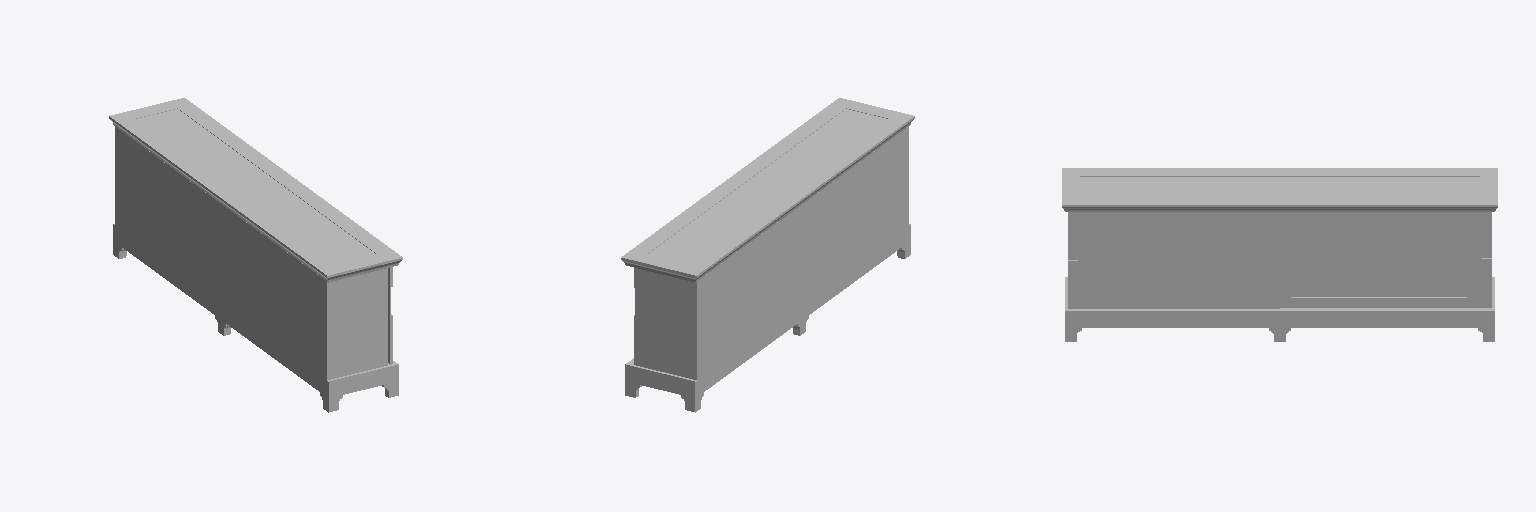
The model's file is Promemoria OOLONG.obj.
The picture shows the model from 3 angles: view 1: azimuth 30°, elevation 25°; view 2: azimuth 150°, elevation 25°; view 3: azimuth 270°, elevation 25°; orthographic projection.
Parts seen in each view (by area): view 1: Box4311, Line36826, Box4297, Box4295, Box4294; view 2: Box4311, Line36826, Box4297, Box4296, Box4294; view 3: Box4303, Box4309, Line36826, Box4294, Box4297, Box4307, Box4300, Box4301, Box4308, Line36827, Line36830, Box4298 (+3 smaller).
Part boxes in pixels (bbox=[...]): Box4311: bbox=[116, 127, 324, 378]; Line36826: bbox=[109, 98, 402, 282]; Box4297: bbox=[135, 109, 376, 264]; Box4295: bbox=[325, 268, 387, 379]; Box4294: bbox=[113, 224, 398, 398]; Box4311: bbox=[699, 127, 907, 378]; Line36826: bbox=[621, 98, 914, 282]; Box4297: bbox=[647, 109, 888, 264]; Box4296: bbox=[636, 268, 698, 379]; Box4294: bbox=[625, 224, 910, 398]; Box4303: bbox=[1093, 220, 1268, 298]; Box4309: bbox=[1291, 219, 1466, 296]; Line36826: bbox=[1062, 168, 1497, 211]; Box4294: bbox=[1065, 277, 1494, 327]; Box4297: bbox=[1080, 177, 1479, 196]; Box4307: bbox=[1291, 297, 1466, 307]; Box4300: bbox=[1093, 299, 1268, 308]; Box4301: bbox=[1093, 212, 1268, 219]; Box4308: bbox=[1291, 212, 1466, 218]; Line36827: bbox=[1068, 212, 1081, 308]; Line36830: bbox=[1478, 212, 1491, 307]; Box4298: bbox=[1269, 212, 1279, 308].
Size of the model in its own units: 560 by 980 by 2800.